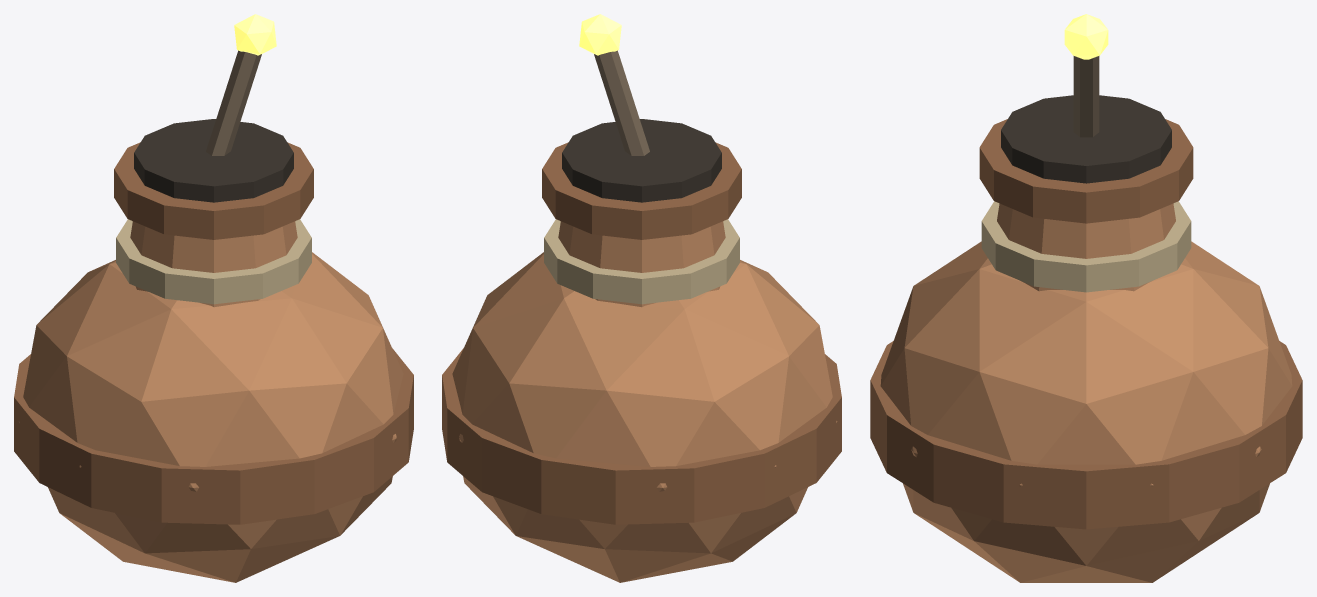
Rendered from grenade.glb.
3 renders of one model, left to right at view 1: azimuth 30°, elevation 25°; view 2: azimuth 150°, elevation 25°; view 3: azimuth 270°, elevation 25°, orthographic. The views are drawn at different scales.
Visible parts, largest first — view 1: Pot_Body, Pot_Band, Pot_Seal, Pot_Rim, Pot_Rope, Pot_Neck, Pot_Fuse, Spark; view 2: Pot_Body, Pot_Band, Pot_Seal, Pot_Rim, Pot_Rope, Pot_Neck, Pot_Fuse, Spark; view 3: Pot_Body, Pot_Band, Pot_Seal, Pot_Rim, Pot_Rope, Pot_Neck, Pot_Fuse, Spark.
Boxes of the visible parts, bbox=[...] form: Pot_Body: bbox=[18, 252, 403, 582]; Pot_Band: bbox=[14, 348, 413, 524]; Pot_Seal: bbox=[134, 119, 293, 202]; Pot_Rim: bbox=[114, 142, 313, 239]; Pot_Rope: bbox=[116, 219, 311, 304]; Pot_Neck: bbox=[130, 221, 297, 307]; Pot_Fuse: bbox=[206, 50, 261, 155]; Spark: bbox=[234, 14, 276, 55]; Pot_Body: bbox=[452, 252, 837, 582]; Pot_Band: bbox=[442, 348, 841, 524]; Pot_Seal: bbox=[562, 119, 721, 202]; Pot_Rim: bbox=[542, 142, 741, 239]; Pot_Rope: bbox=[544, 219, 739, 304]; Pot_Neck: bbox=[558, 221, 725, 307]; Pot_Fuse: bbox=[594, 50, 649, 155]; Spark: bbox=[579, 14, 621, 55]; Pot_Body: bbox=[880, 241, 1292, 582]; Pot_Band: bbox=[870, 341, 1302, 529]; Pot_Seal: bbox=[1001, 95, 1171, 183]; Pot_Rim: bbox=[979, 119, 1193, 223]; Pot_Rope: bbox=[981, 201, 1191, 292]; Pot_Neck: bbox=[997, 203, 1175, 291]; Pot_Fuse: bbox=[1073, 56, 1099, 137]; Spark: bbox=[1064, 14, 1108, 59].
Size of the model in its own units: 0.202 by 0.298 by 0.202.
